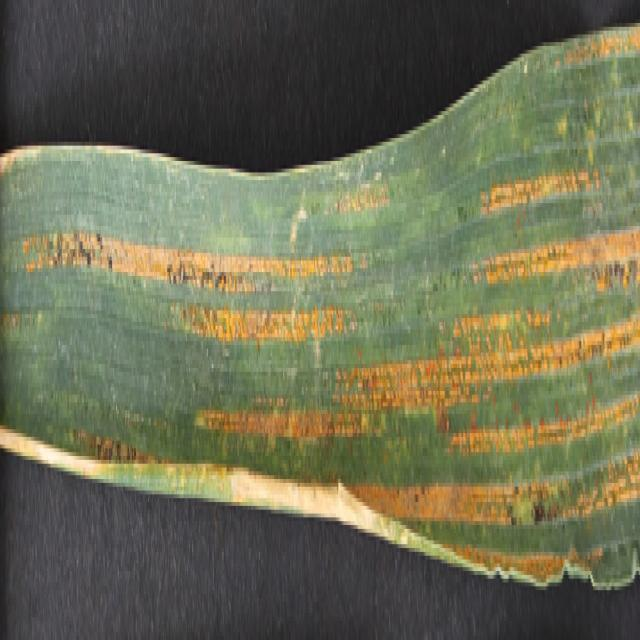leaf rust: (21, 153, 640, 578)
